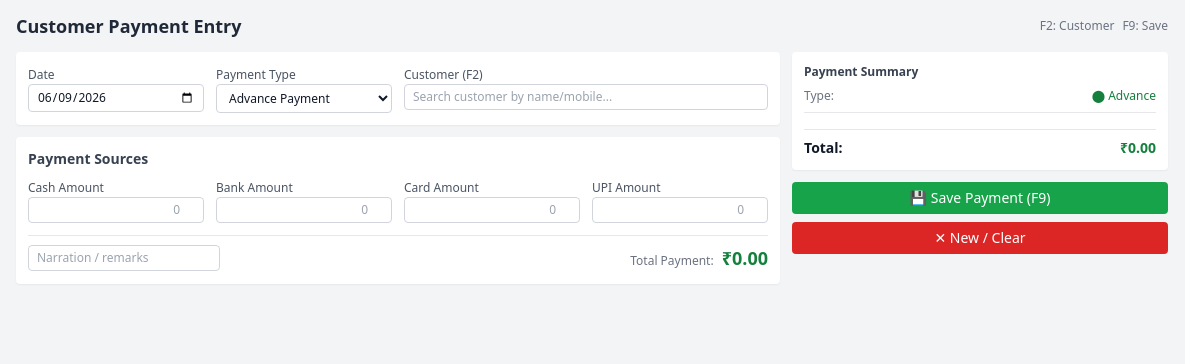
CustomerPaymentEntry › shows bank details inputs when bank amount is entered
Type "5000" into the number field with placeholder "0" below "Bank Amount" at (304, 210), box [216,197,392,223]
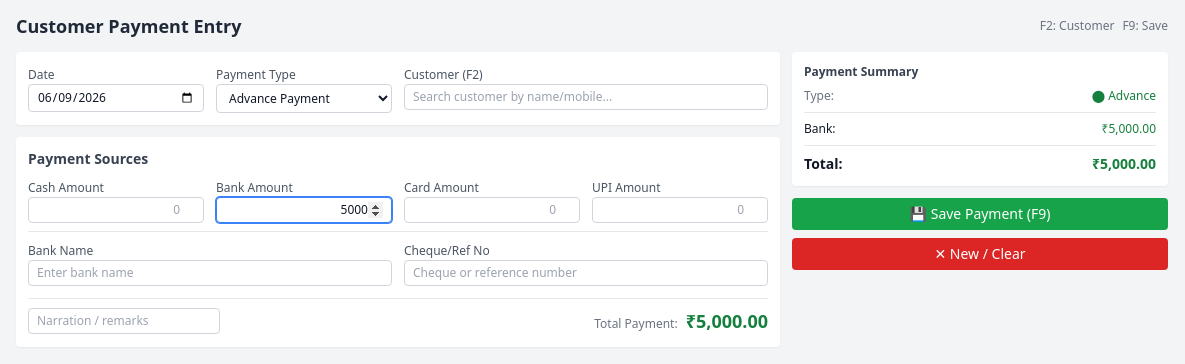
Expected: the text "Bank Name" is shown, [28,242,93,259]
Expected: the field with placeholder "Cheque or reference number" is shown, [404,260,768,286]
